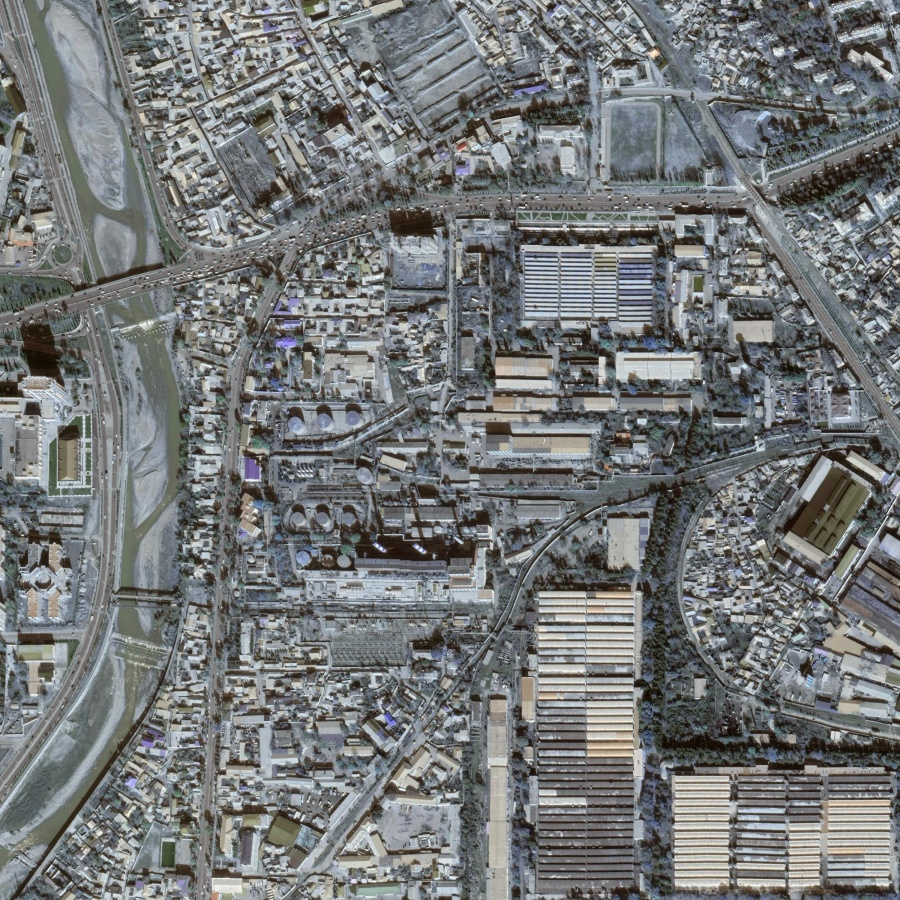PowerPlant: (278, 457, 499, 668)
